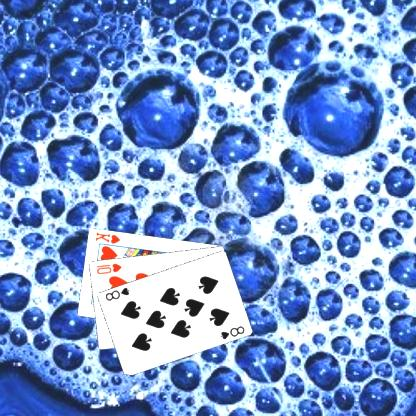10H: (95, 260, 125, 275)
8S: (104, 284, 132, 302), (219, 323, 247, 341)
KH: (95, 229, 123, 245)
